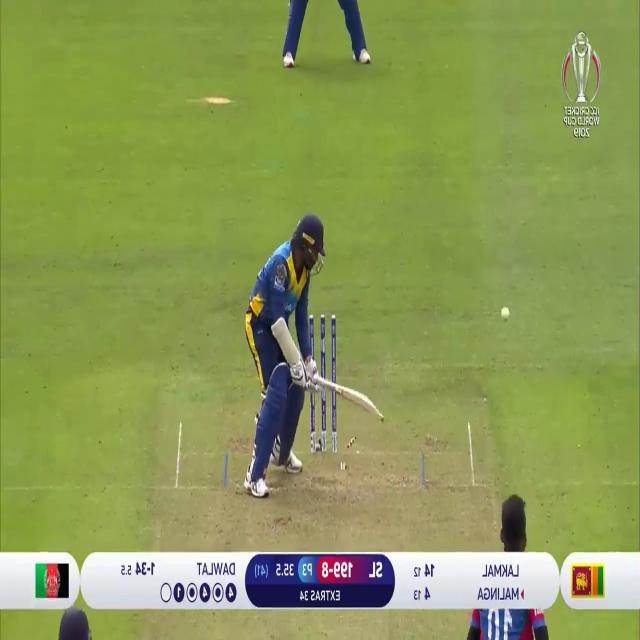ball: (500, 303, 512, 324)
